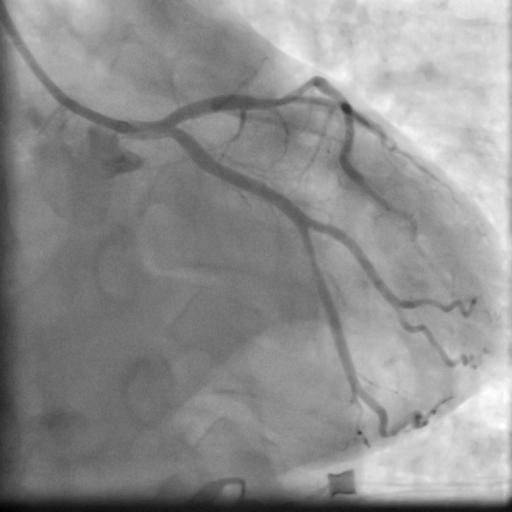Stenosis: (305, 240, 323, 291)
